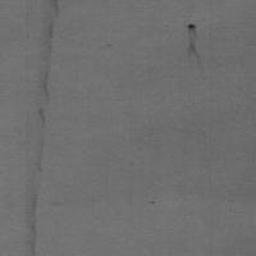Inclusion: (26, 0, 61, 256), (186, 22, 207, 74)
